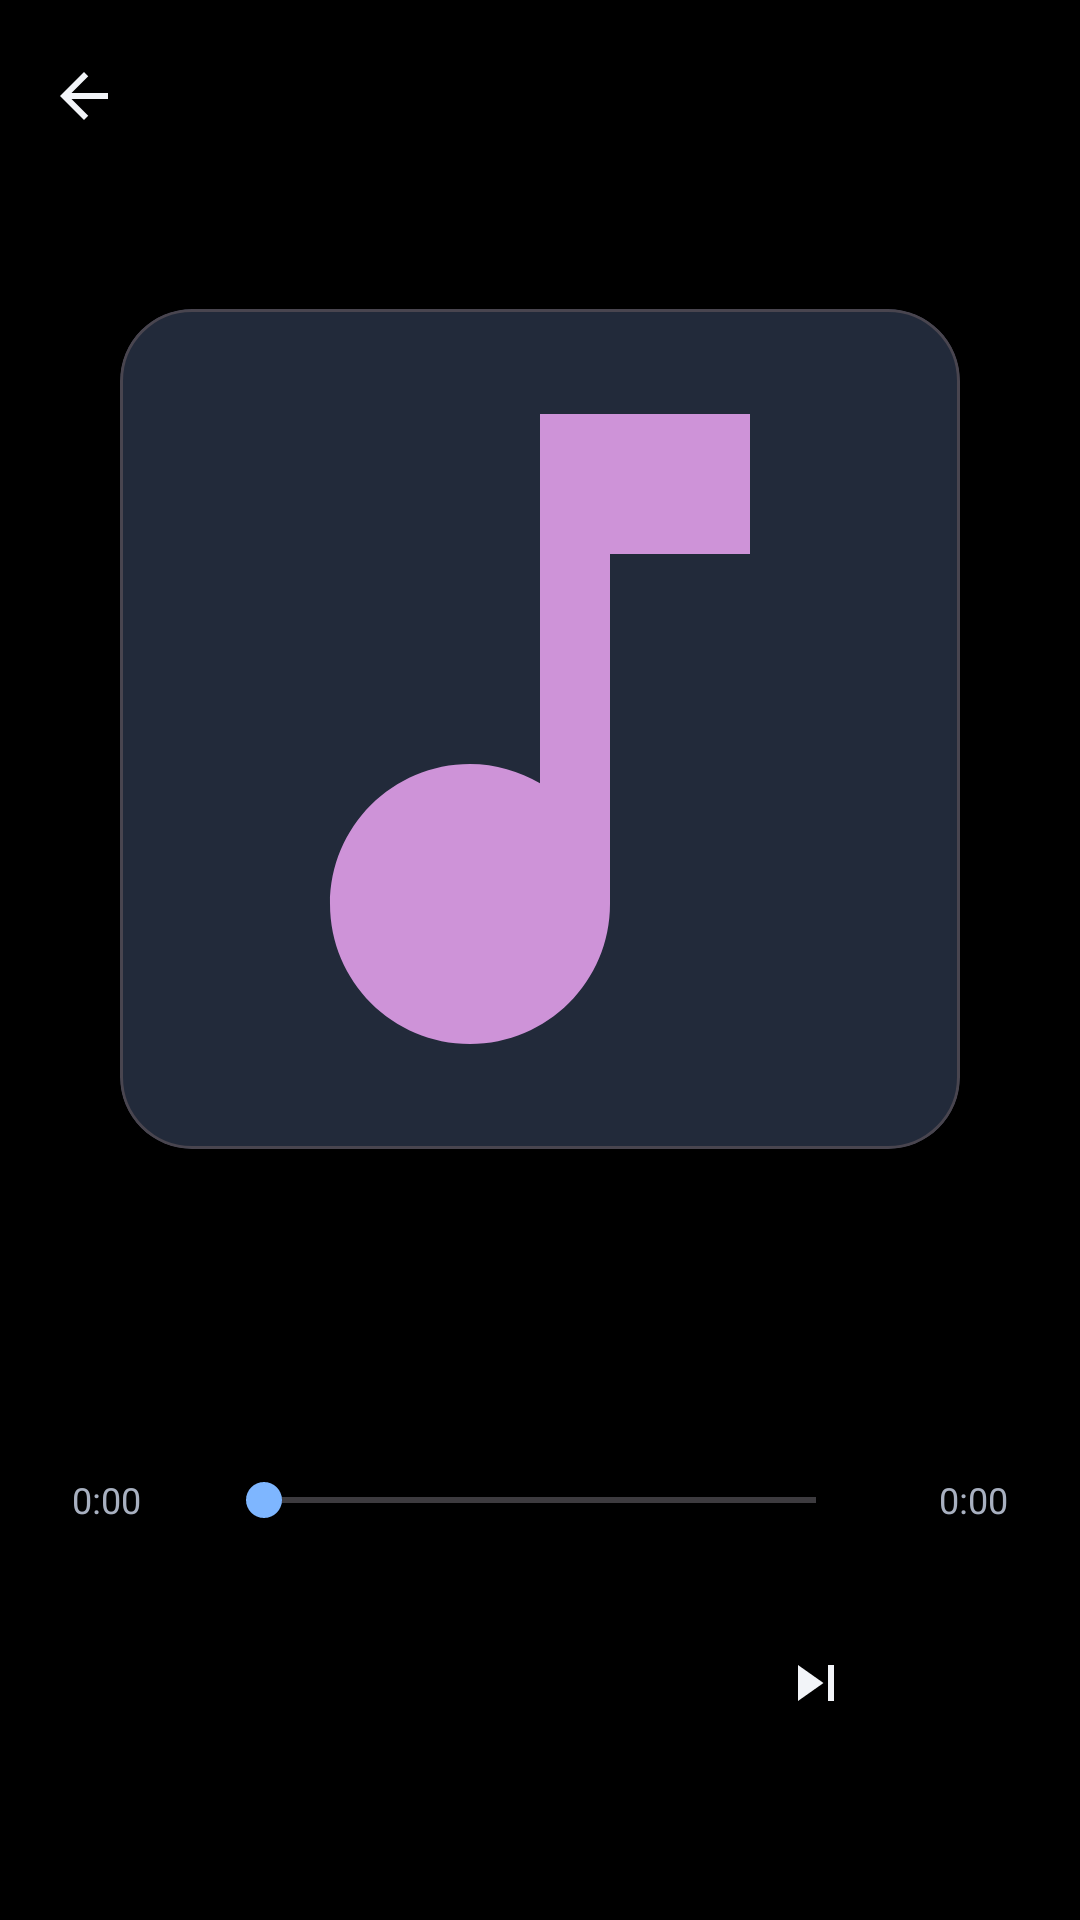

Screen size 1080x1920. Icon name, then its center in pixels as [x,y]:
下一首: [816,1683]
